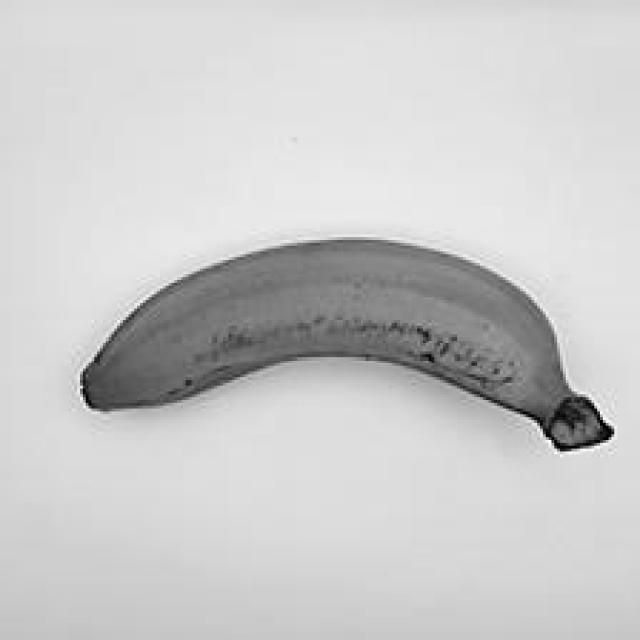Raw: (57, 206, 622, 502)
